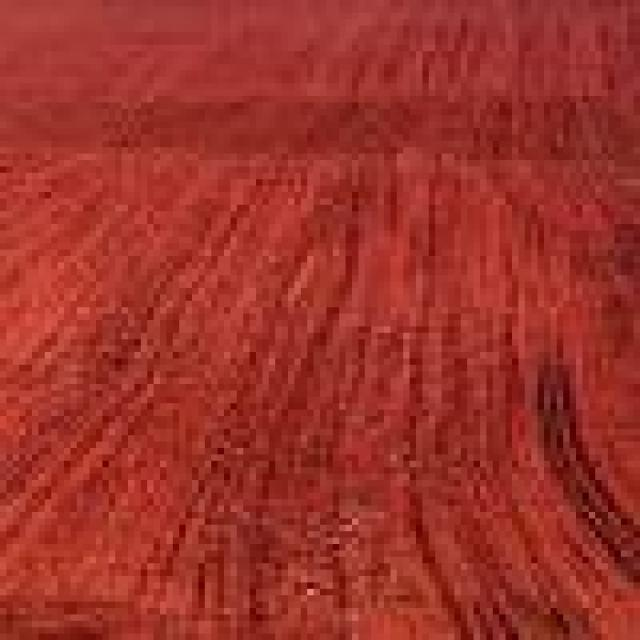Red Soil: (60, 118, 544, 582)
